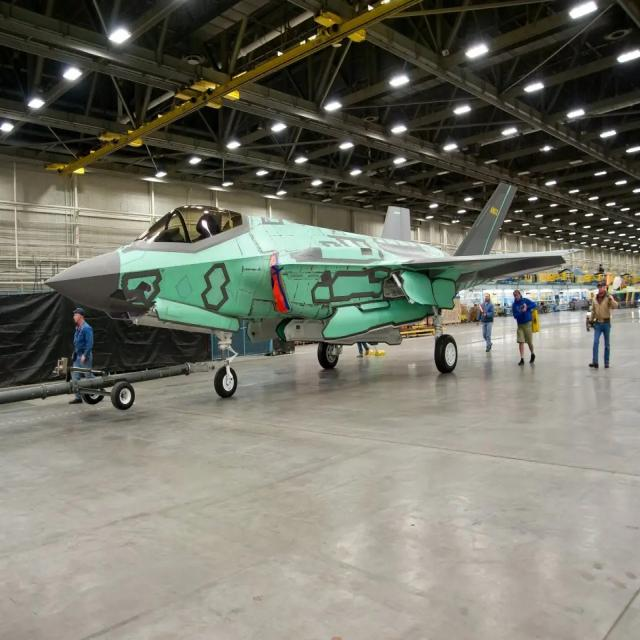MIL_Plane: (44, 182, 586, 397)
